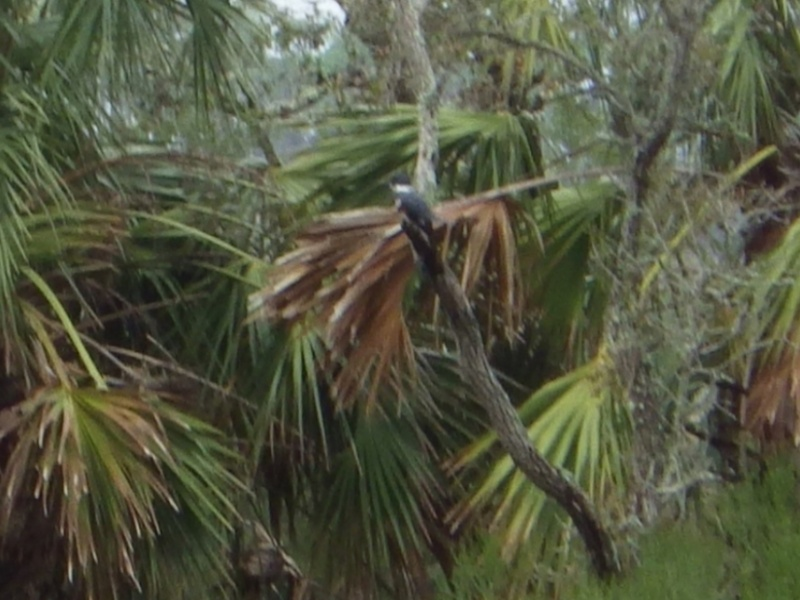kingfisher: (388, 175, 441, 235)
